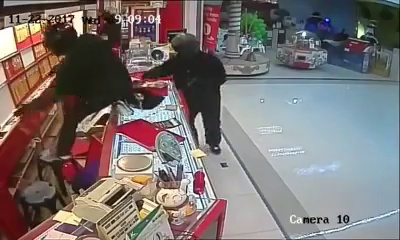helmet: (36, 23, 75, 56), (166, 31, 199, 58)
